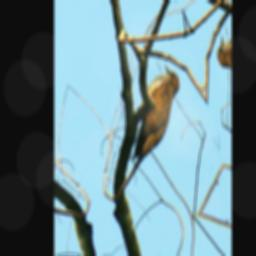Cuckoo: (114, 60, 192, 163)
